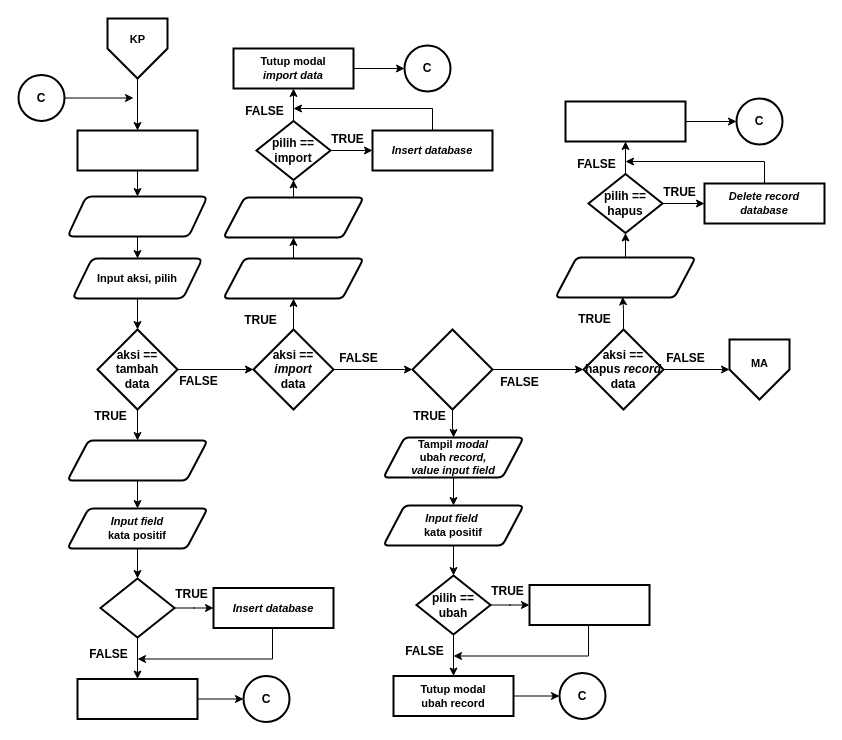
Some shapes in this 842 by 740 pixel diagram are drawn without their labels. The box of each missing label's shape, as (x1, y1, x2, y2) in pixels:
aksi == ubah record data: (411, 328, 493, 410)
Input field file: (222, 196, 364, 238)
pilih == simpan: (99, 577, 175, 638)
Select data kata positif dari database: (76, 129, 198, 171)
Tampil modal hapus record: (554, 256, 696, 298)
Tampil modal import data: (222, 257, 364, 299)
Tampil modal tambah data: (66, 439, 208, 481)
Tampilkan halaman kata positif: (66, 195, 208, 237)
Tutup modal hapus record: (564, 100, 686, 142)
Tutup modal tambah data: (76, 678, 198, 720)
Update record database: (528, 584, 650, 626)
